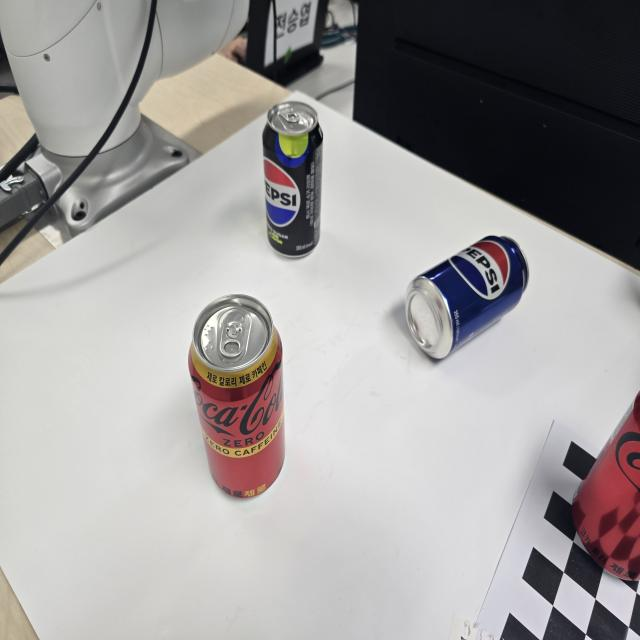can_coke_decaf: (188, 296, 284, 498)
can_pepsi: (404, 234, 529, 362)
can_pepsi_zero: (263, 99, 324, 256)
